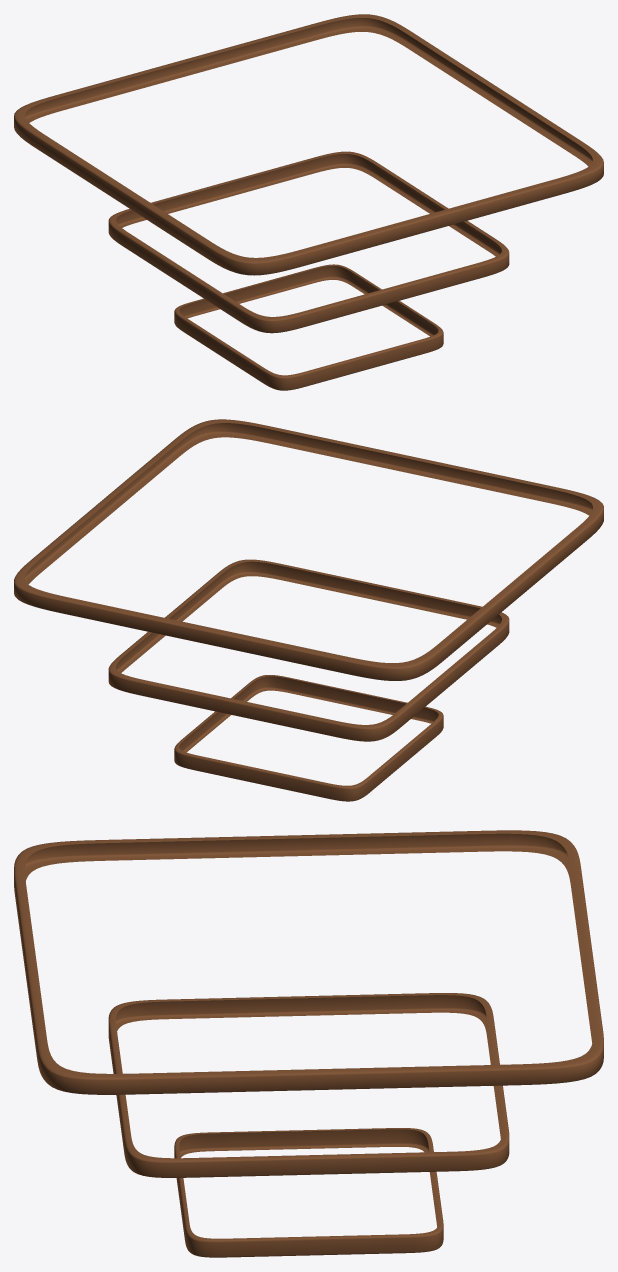
Rendered from hanging_light_matte.obj.
3 views of the same model, one above another, from view 1: azimuth 30°, elevation 25°; view 2: azimuth 150°, elevation 25°; view 3: azimuth 270°, elevation 25° (orthographic). The views are drawn at different scales.
Visible parts, largest first — view 1: lamp_metal_0; view 2: lamp_metal_0; view 3: lamp_metal_0.
Part boxes in pixels (x1,y1,x2,y2): lamp_metal_0: [14, 14, 603, 390]; lamp_metal_0: [14, 419, 603, 801]; lamp_metal_0: [14, 830, 603, 1257].
Size of the model in its own units: 0.5439 by 0.252 by 0.5439.
